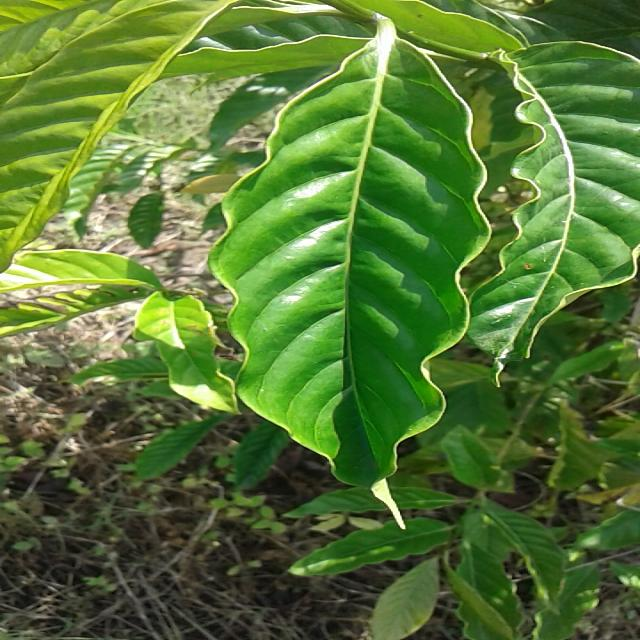Sanas: (211, 17, 493, 492)
